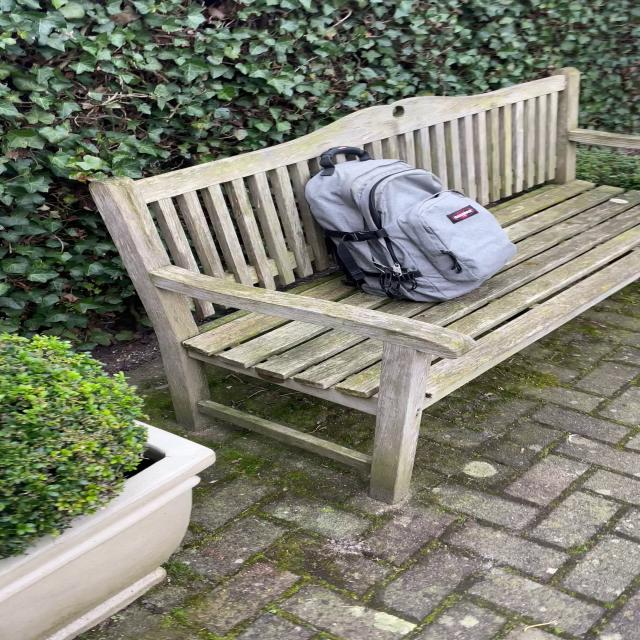backpack: (294, 143, 524, 306)
